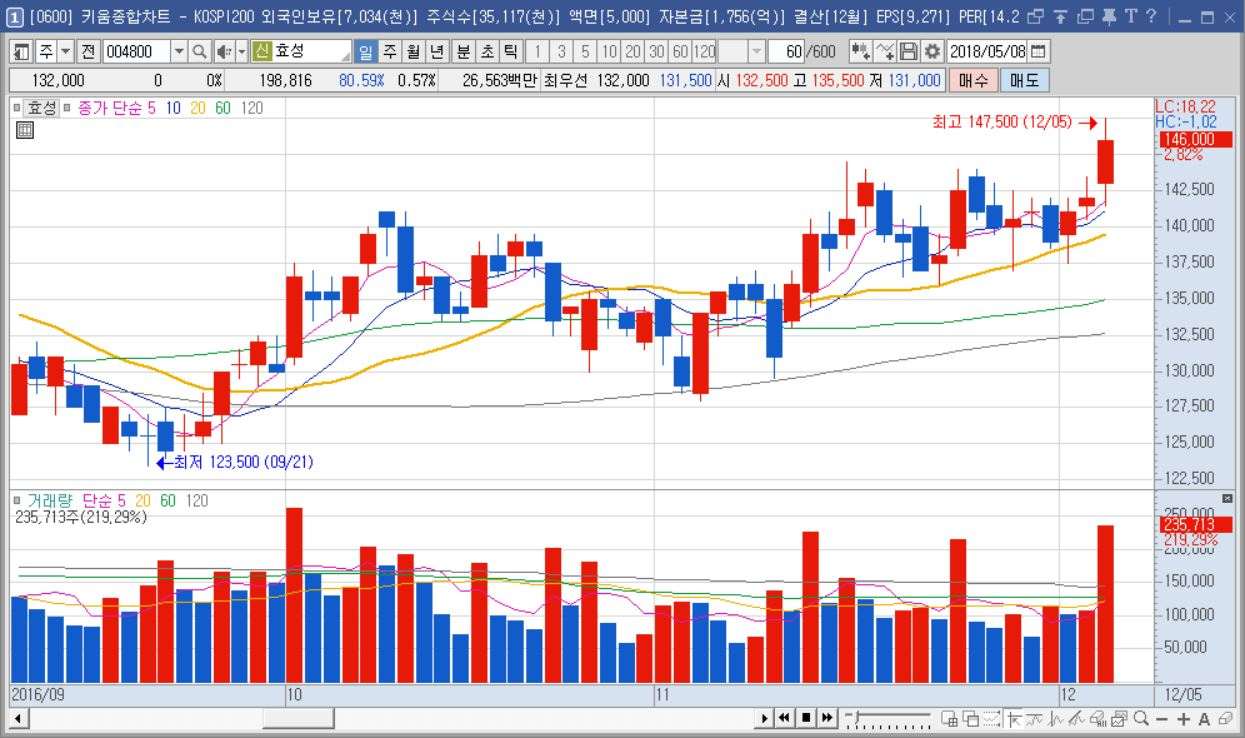up: (765, 107, 1116, 679)
